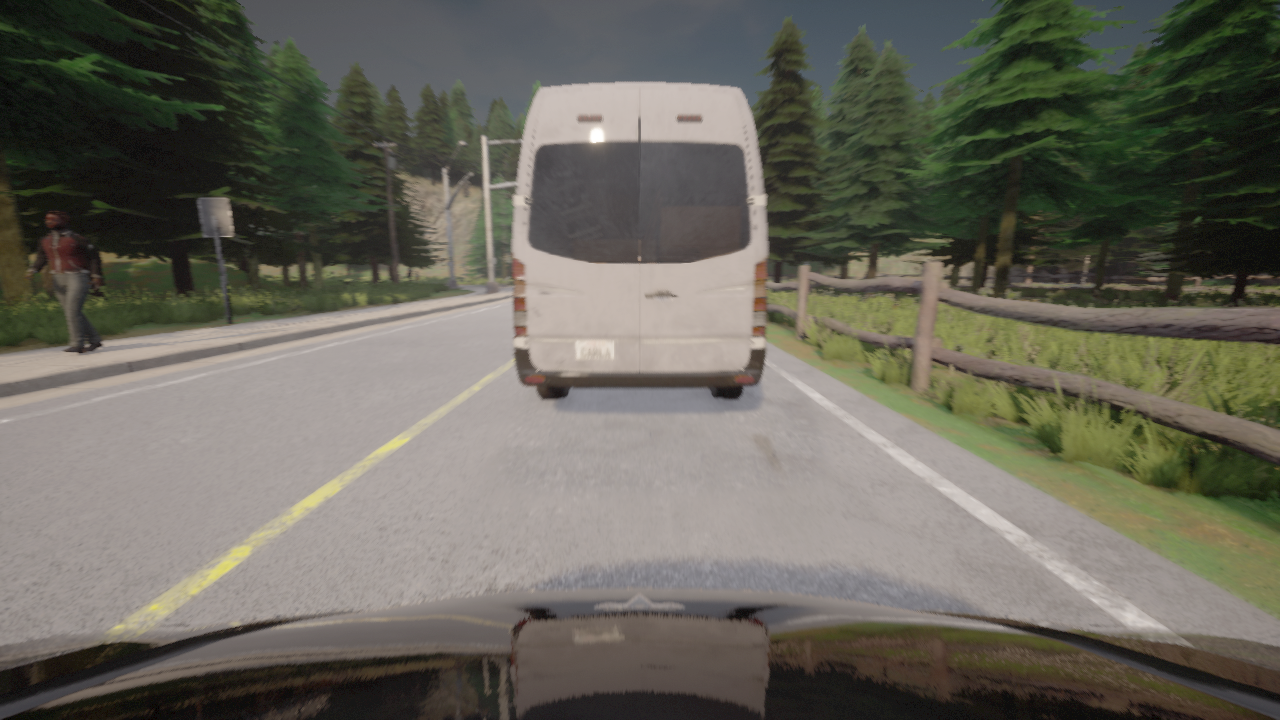cyclist: (0, 588, 1279, 719), (513, 83, 767, 398)
pedestrian: (25, 210, 104, 353), (406, 268, 413, 281), (415, 271, 418, 281)
